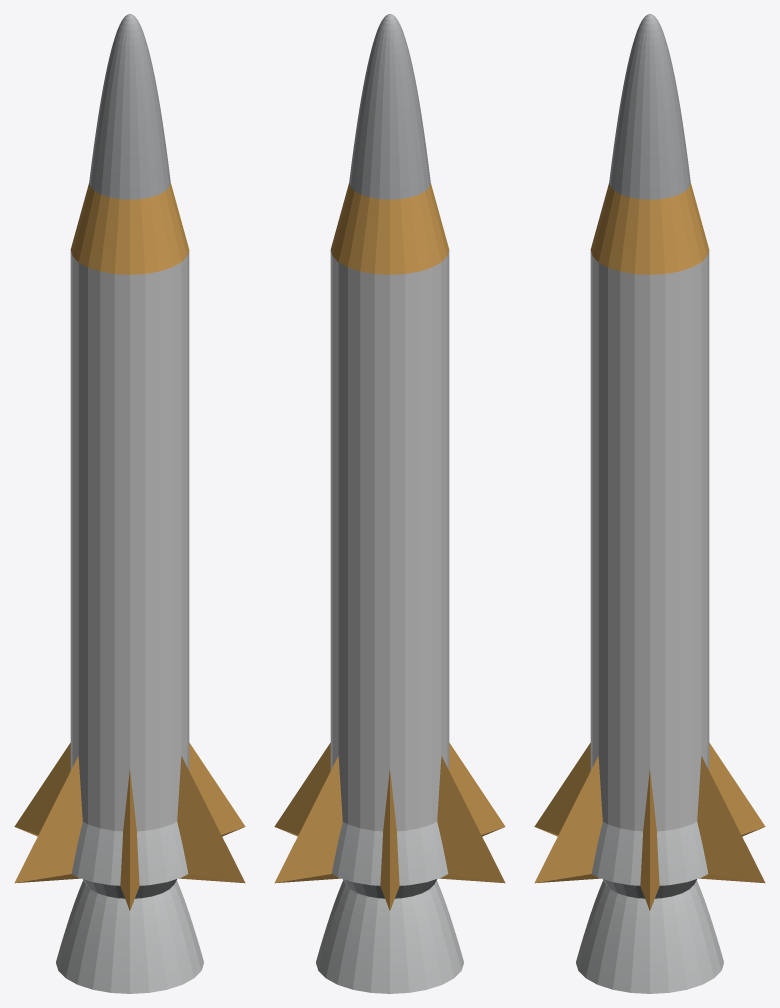
File: Rocket in 3D.glb
3 views of the same model, side by side, from view 1: azimuth 30°, elevation 25°; view 2: azimuth 150°, elevation 25°; view 3: azimuth 270°, elevation 25° (orthographic).
Visible parts, largest first — view 1: Mesh_Mesh_head_geo.001_lambert2SG.001; view 2: Mesh_Mesh_head_geo.001_lambert2SG.001; view 3: Mesh_Mesh_head_geo.001_lambert2SG.001.
Part boxes in pixels (x1,y1,x2,y2): Mesh_Mesh_head_geo.001_lambert2SG.001: [14, 14, 245, 993]; Mesh_Mesh_head_geo.001_lambert2SG.001: [274, 14, 505, 993]; Mesh_Mesh_head_geo.001_lambert2SG.001: [534, 14, 765, 993].
Bounding box in the file's own units: 36 × 141 × 31.18.
